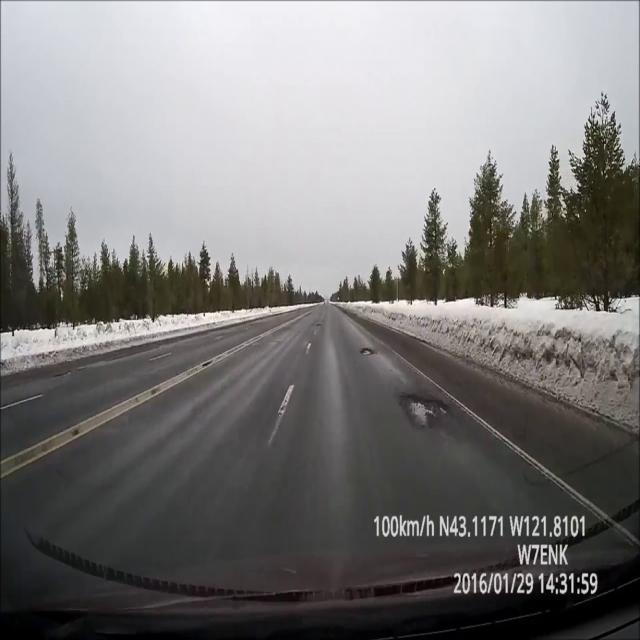pothole: (398, 392, 454, 425), (358, 347, 374, 356), (316, 323, 323, 328)
